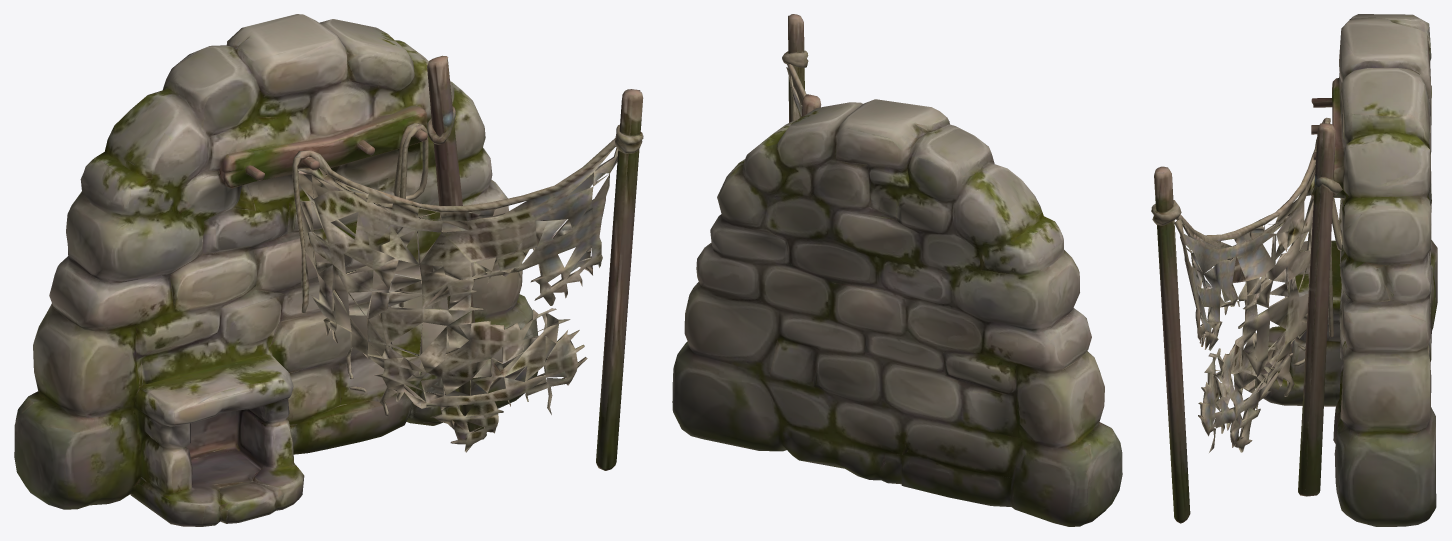
Rendered from hut.glb.
The picture shows the model from 3 angles, left to right: view 1: azimuth 30°, elevation 25°; view 2: azimuth 150°, elevation 25°; view 3: azimuth 270°, elevation 25°; orthographic projection. The views are drawn at different scales.
Bounding box in the file's own units: 1.25 × 1 × 0.6682.
Materials: 1 (1 with a texture image).
